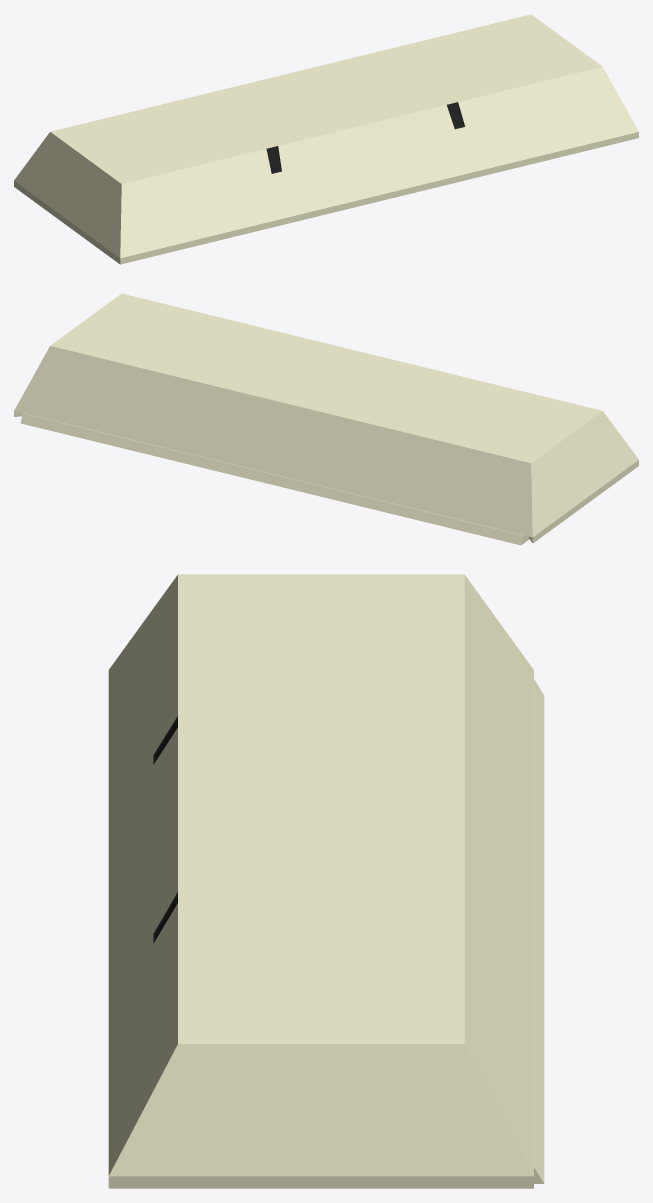
The model's file is EggCarton(Top)V1.fbx.
3 renders of one model, top to bottom at view 1: azimuth 30°, elevation 25°; view 2: azimuth 150°, elevation 25°; view 3: azimuth 270°, elevation 25°, orthographic. The views are drawn at different scales.
Parts seen in each view (by area): view 1: Cube; view 2: Cube; view 3: Cube.
Boxes of the visible parts, x1,y1,x2,y2 form: Cube: (14, 14, 638, 264); Cube: (14, 293, 638, 545); Cube: (108, 574, 544, 1188).
Bounding box in the file's own units: 205 × 564 × 67.81.
